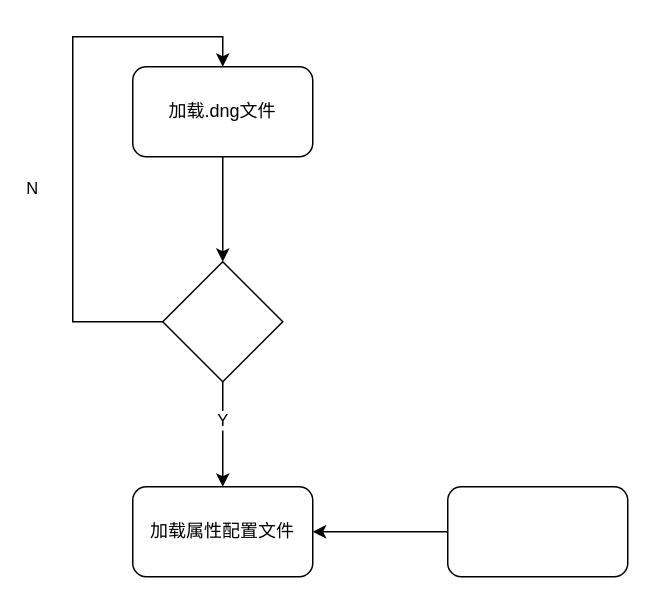
This 654x603 diagram has some shape labels left out. Each missing label, with the centre of its shape:
.json: pixel 537 531
文件是否正确: pixel 222 321
